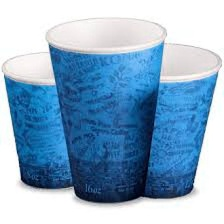paper_cup: (39, 11, 172, 210), (121, 37, 223, 203), (0, 46, 98, 193)
